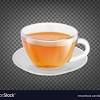cup: (20, 21, 91, 68)
